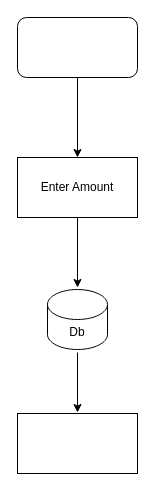
Some shapes in this 155 by 491 pixel diagram are drawn without their labels. Each missing label, with the centre of its shape:
Deposit cash: pixel 77 47
Message "Money deposited": pixel 77 443
